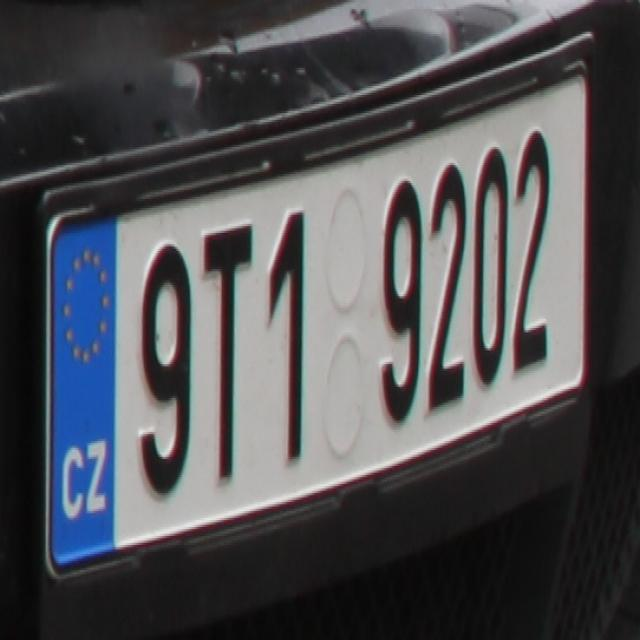1: (264, 208, 310, 468)
2: (423, 158, 469, 410), (506, 129, 552, 369)
9: (136, 242, 196, 496), (378, 174, 426, 428)
T: (200, 222, 252, 484)
